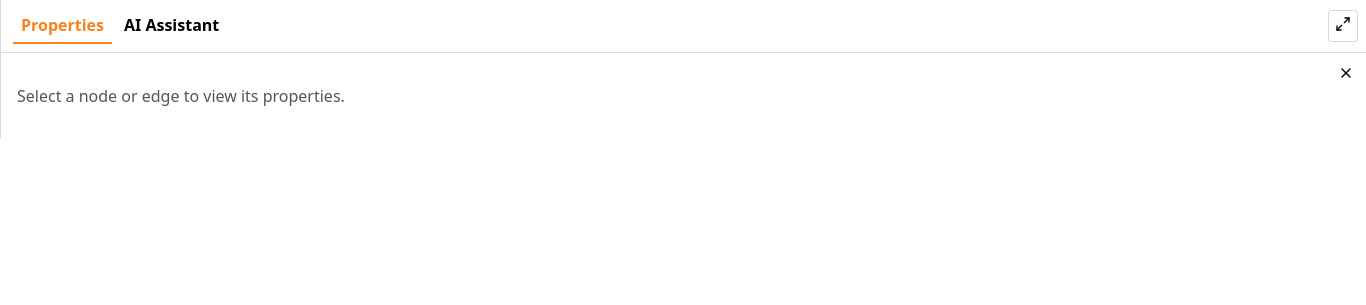
Test: DetailsPanel › switches to the AI Assistant tab on click, updating the store and the tabpanel label
This screenshot has width=1366, height=305.
Click the tab "AI Assistant". click: click(172, 26)
box: 116,8 -> 227,44
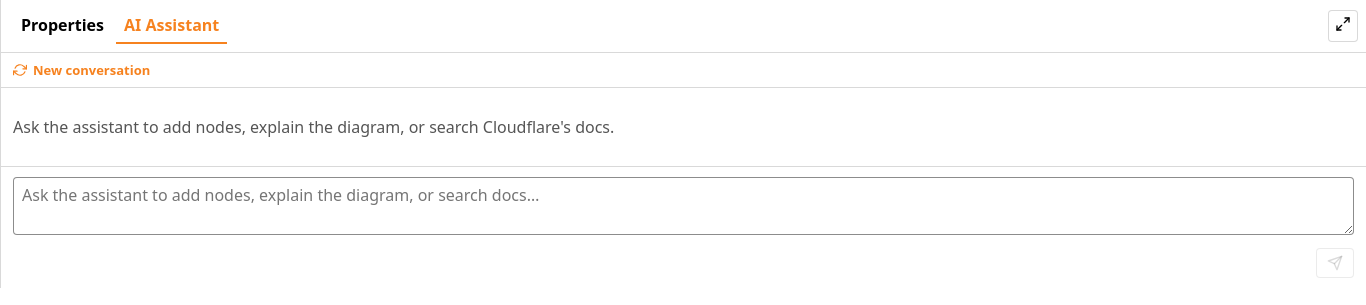
Now the text box named "Message the AI assistant" is shown, box 13,177 -> 1354,235
